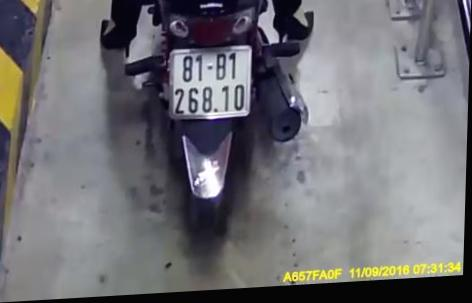License_Plate: (159, 40, 267, 127)
